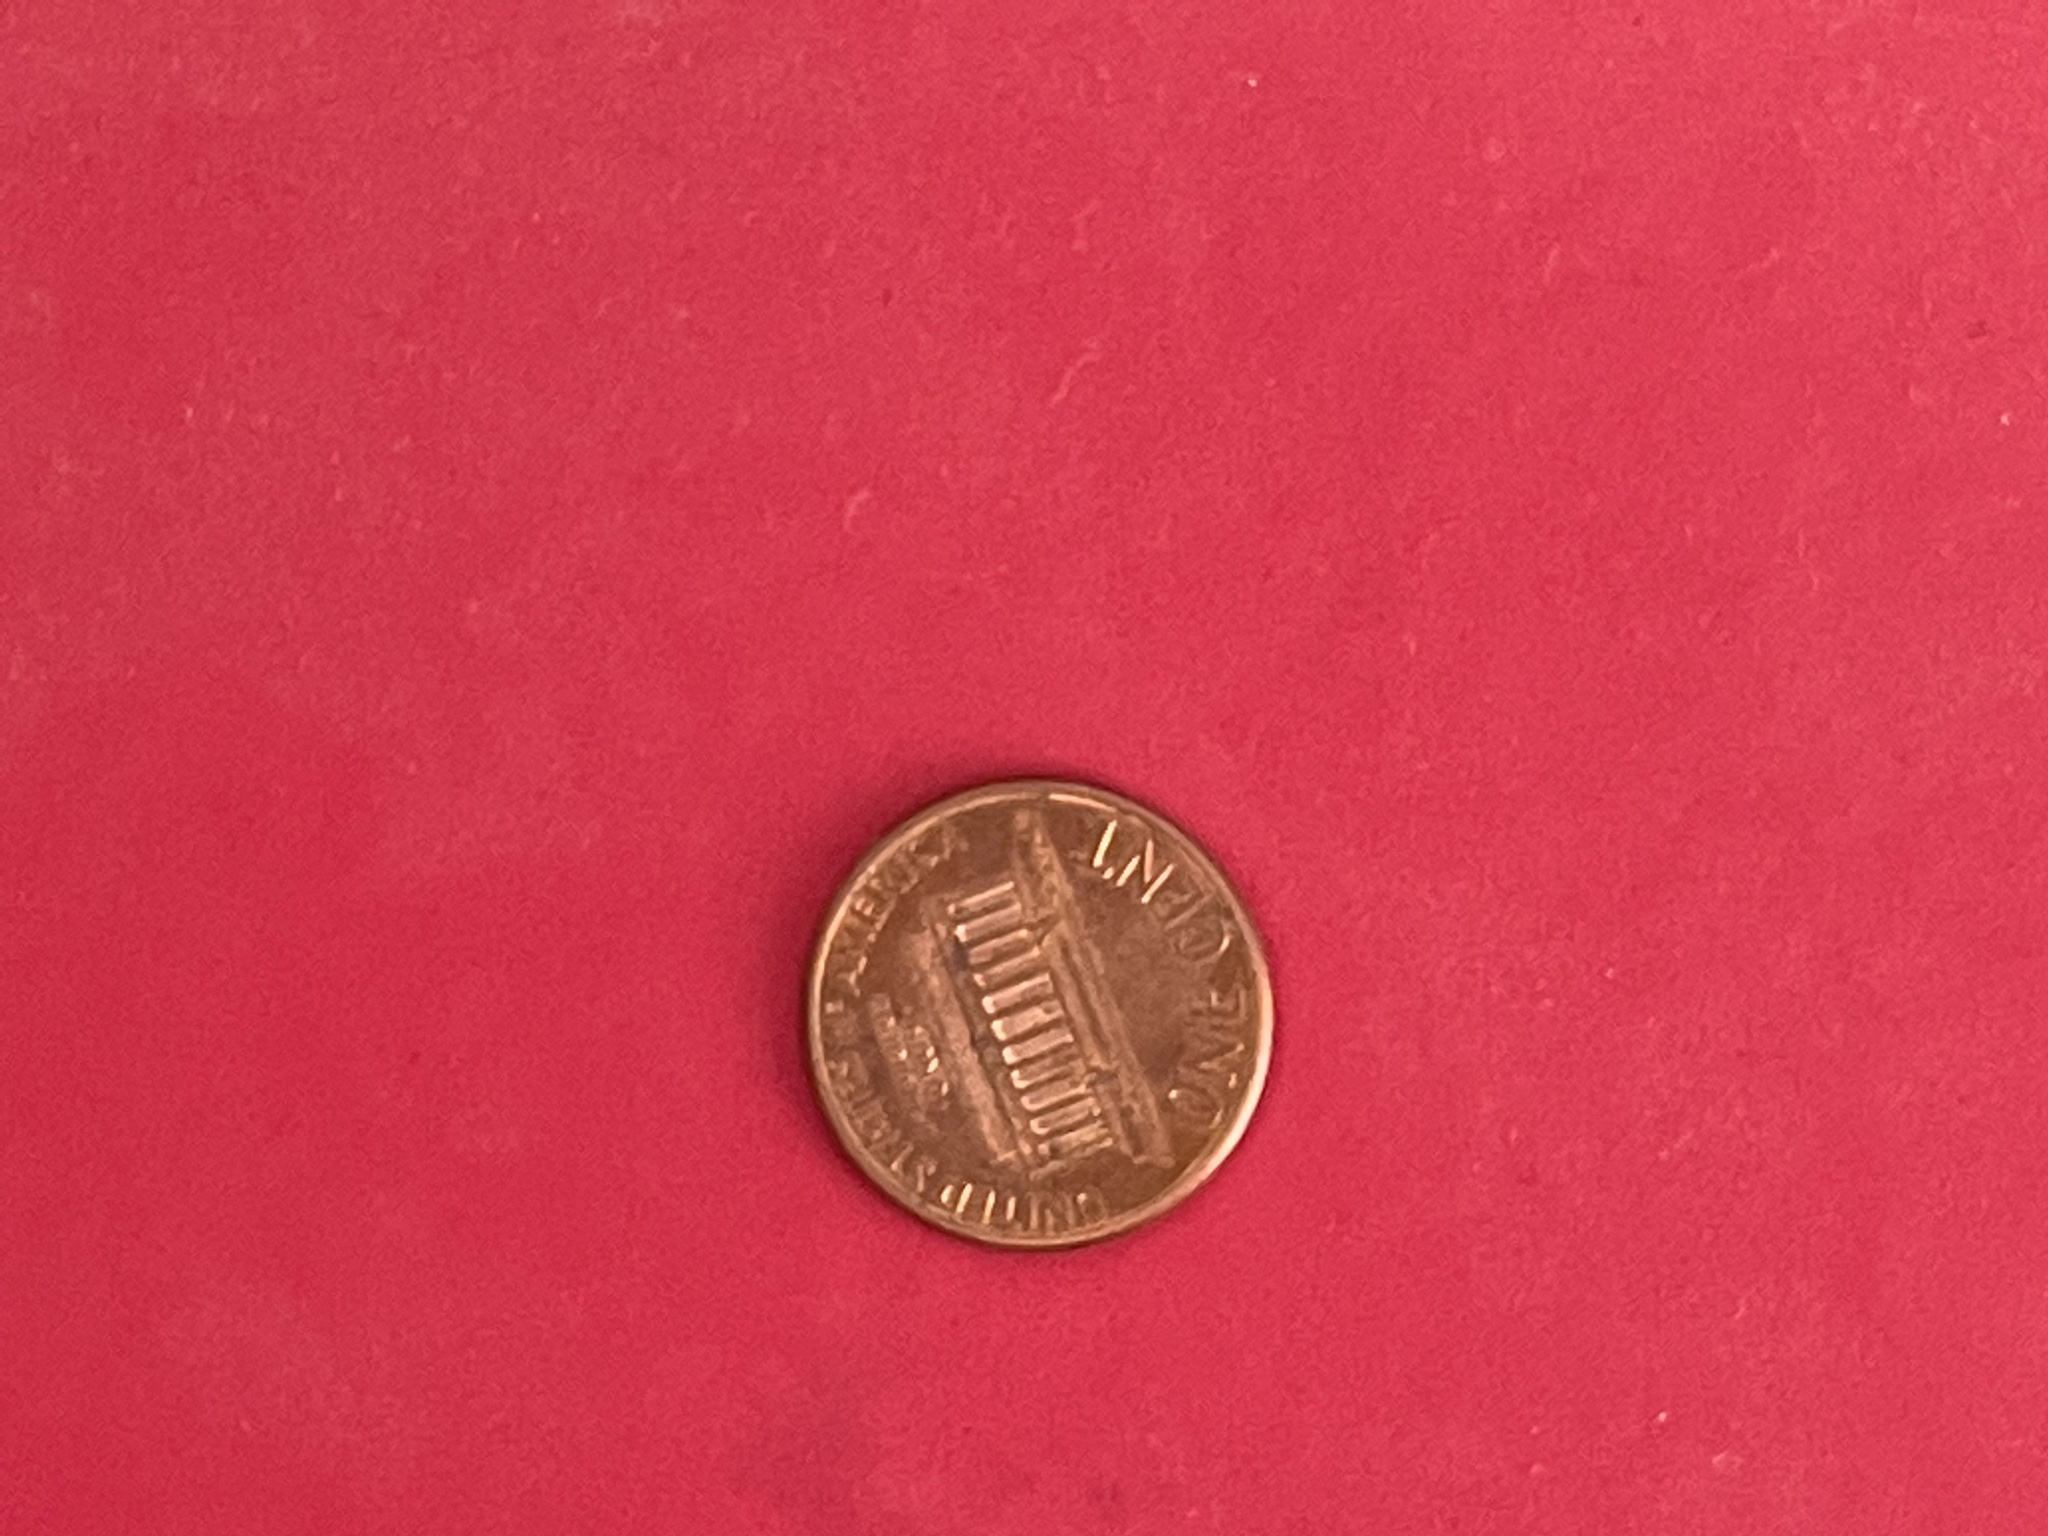penny: (798, 770, 1280, 1257)
